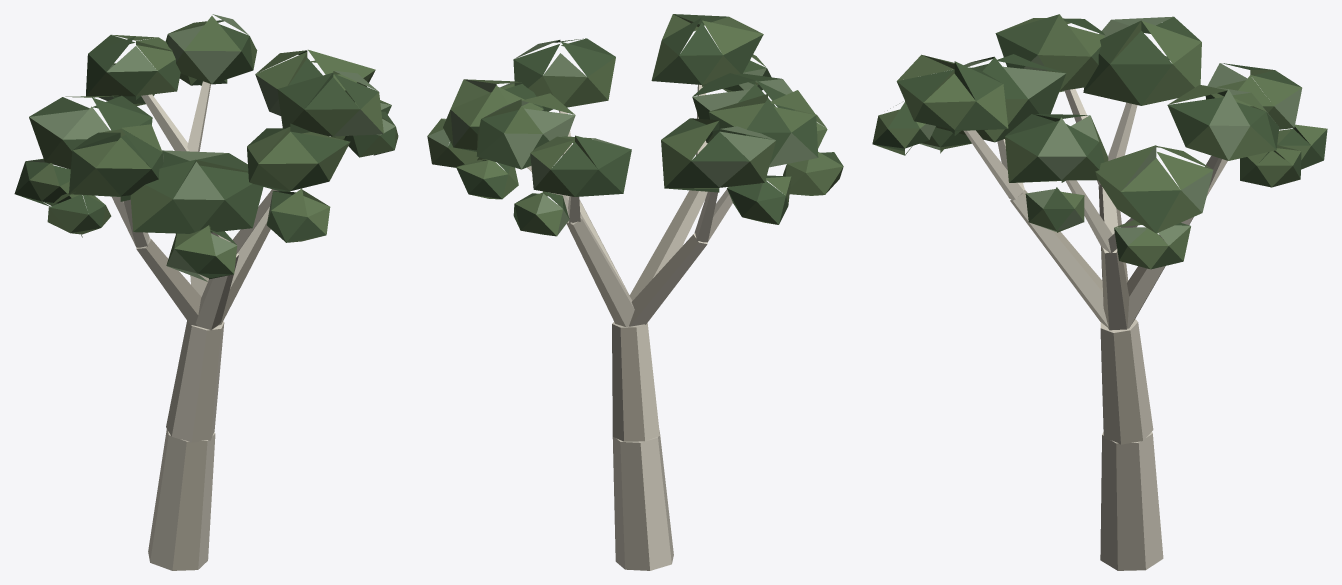
File: eucalyptus.glb
3 views of the same model, side by side, from view 1: azimuth 30°, elevation 25°; view 2: azimuth 150°, elevation 25°; view 3: azimuth 270°, elevation 25° (orthographic). The views are drawn at different scales.
Parts seen in each view (by area): view 1: eucalyptus2; view 2: eucalyptus2; view 3: eucalyptus2.
Boxes of the visible parts, <box> form: eucalyptus2: <box>14,14,398,570</box>; eucalyptus2: <box>427,14,843,570</box>; eucalyptus2: <box>872,14,1327,570</box>.
Bounding box in the file's own units: 5.05 × 6.28 × 5.06.
